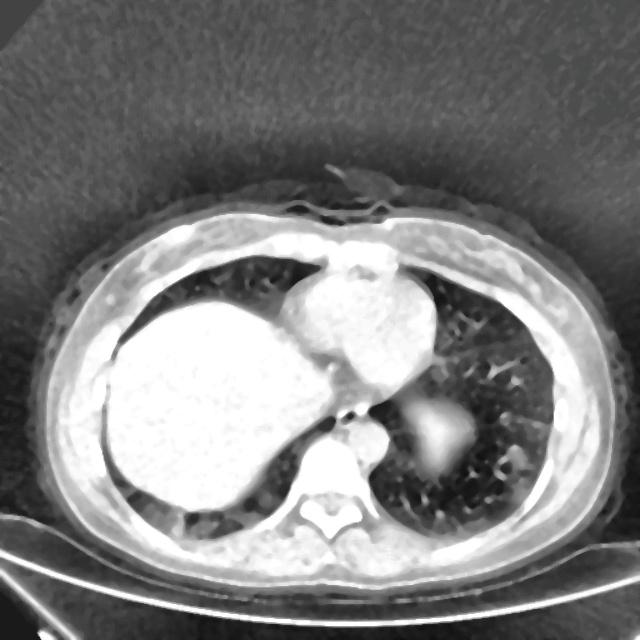covid: (29, 180, 629, 598)
